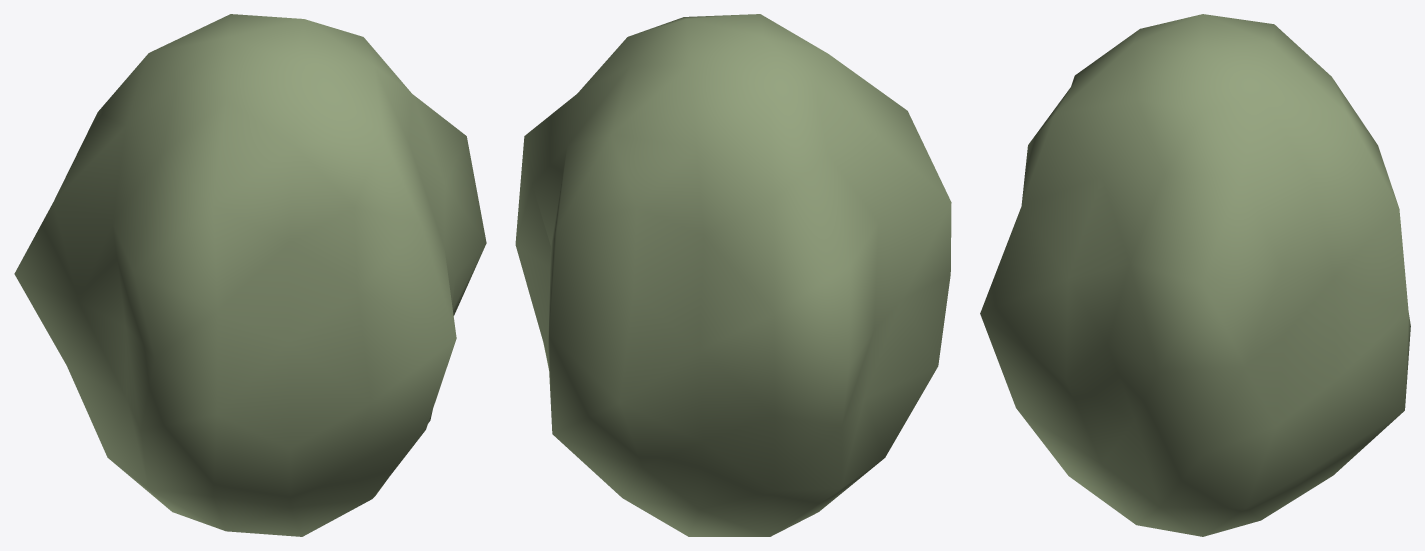
The model's file is bush.glb.
3 views of the same model, side by side, from view 1: azimuth 30°, elevation 25°; view 2: azimuth 150°, elevation 25°; view 3: azimuth 270°, elevation 25° (orthographic).
Parts seen in each view (by area): view 1: continuous-bush; view 2: continuous-bush; view 3: continuous-bush.
Part boxes in pixels (x1=…): continuous-bush: x1=14, y1=14, x2=486, y2=536; continuous-bush: x1=515, y1=14, x2=951, y2=536; continuous-bush: x1=980, y1=14, x2=1410, y2=536.
Size of the model in its own units: 0.9712 by 1.18 by 0.9438.
